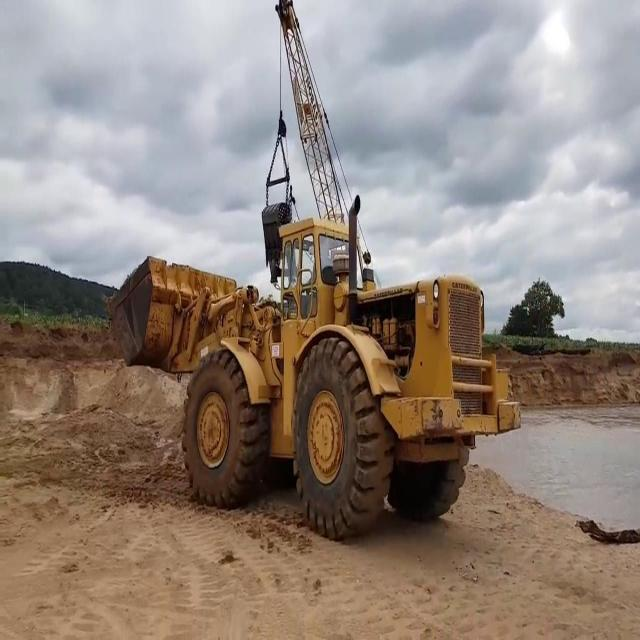Loader: (104, 191, 522, 547)
Mobile Crane: (258, 0, 372, 282)
